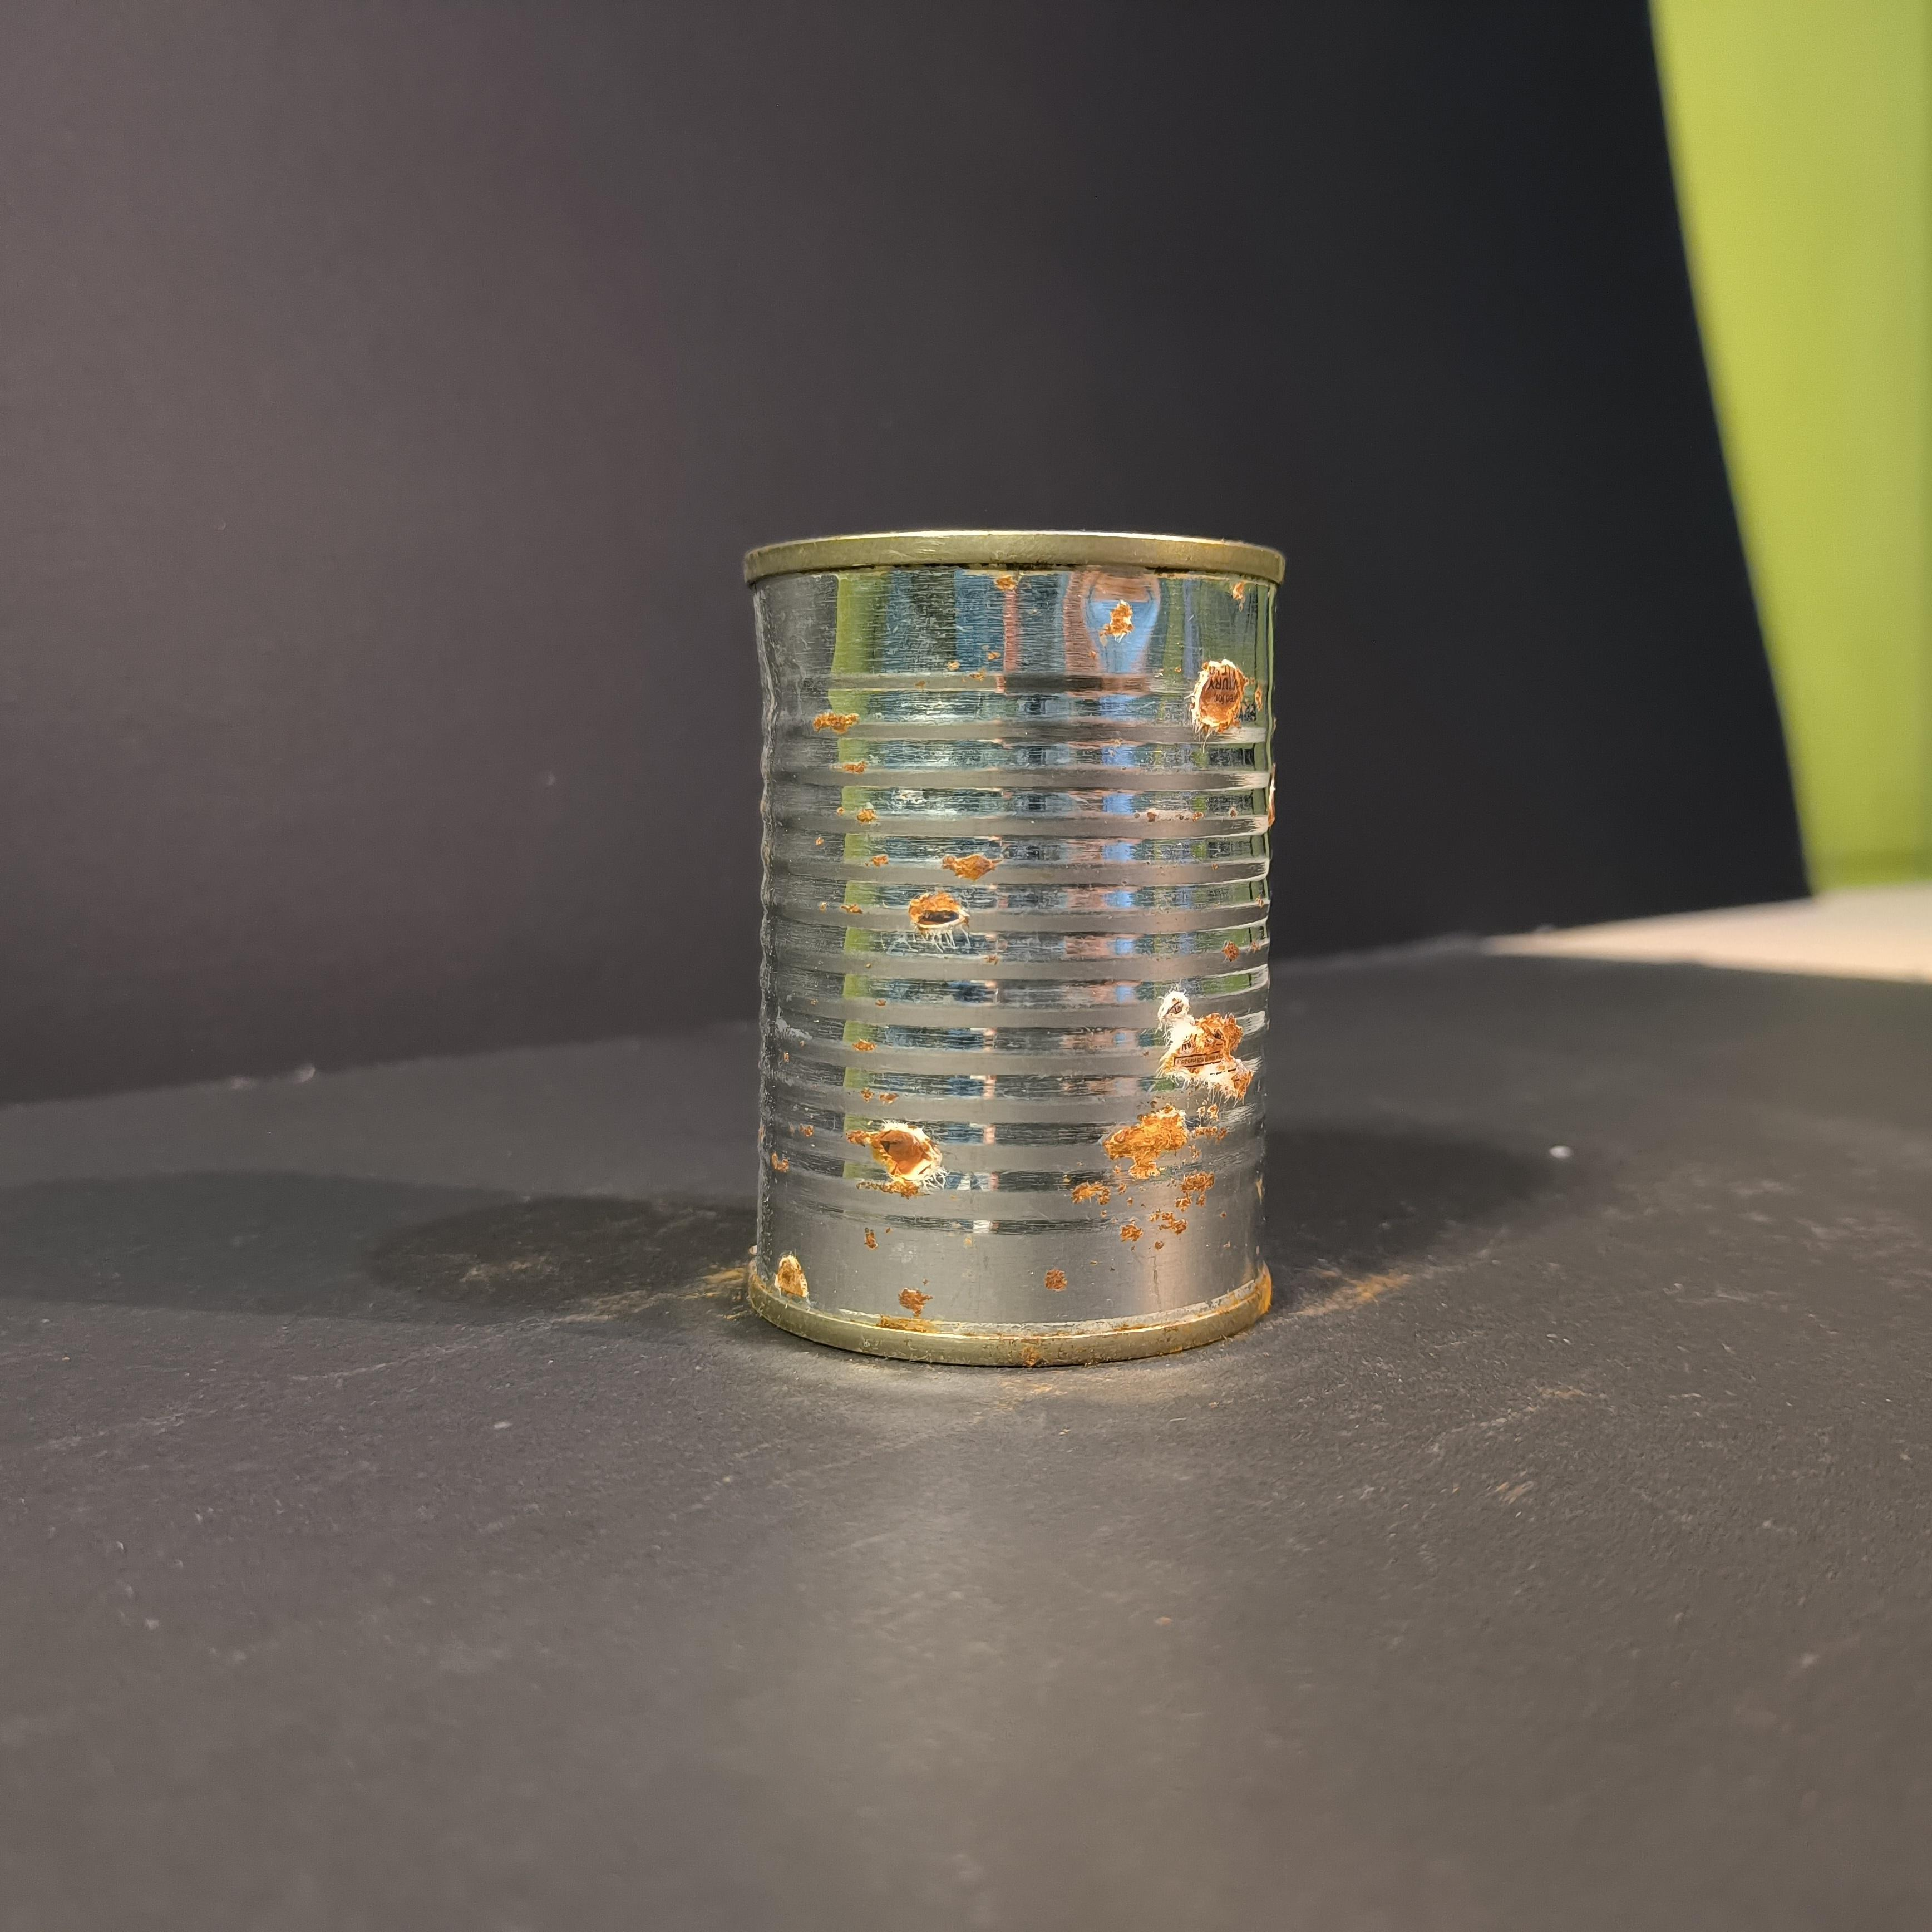Rusted: (701, 495, 1322, 1372)
